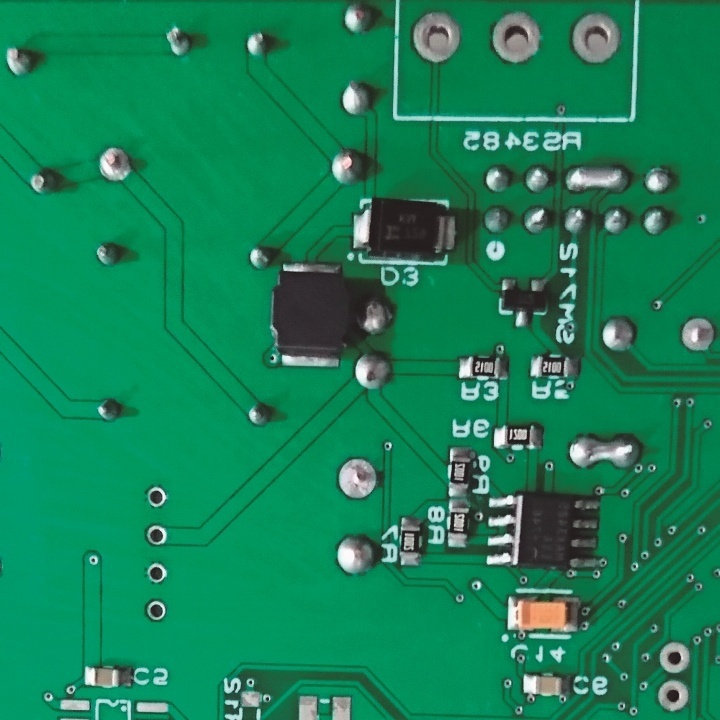F: (488, 10, 545, 68), (570, 10, 619, 66), (412, 11, 461, 64), (337, 454, 378, 504), (678, 312, 719, 356), (95, 143, 132, 186), (653, 677, 690, 718), (658, 640, 694, 676), (145, 519, 169, 549), (144, 482, 168, 509), (144, 598, 167, 623), (145, 559, 167, 585)
P: (566, 429, 644, 472), (564, 162, 633, 196)
